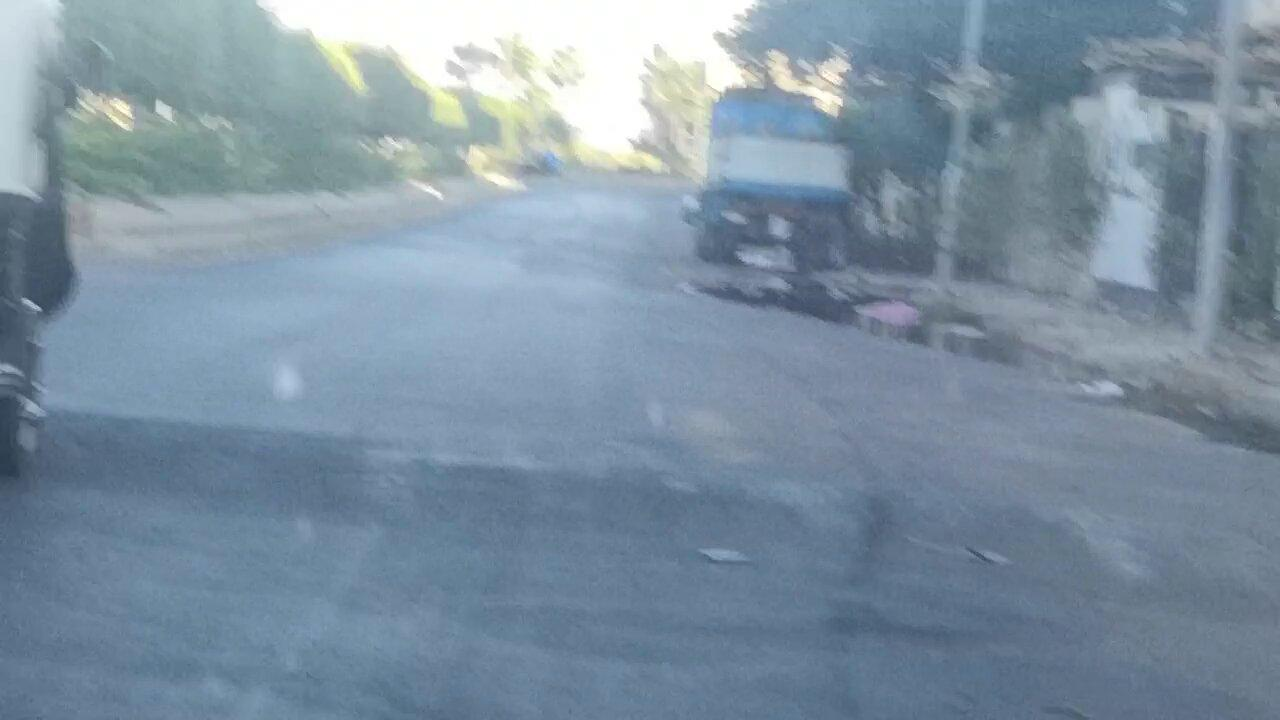Bump: (22, 398, 1280, 602)
